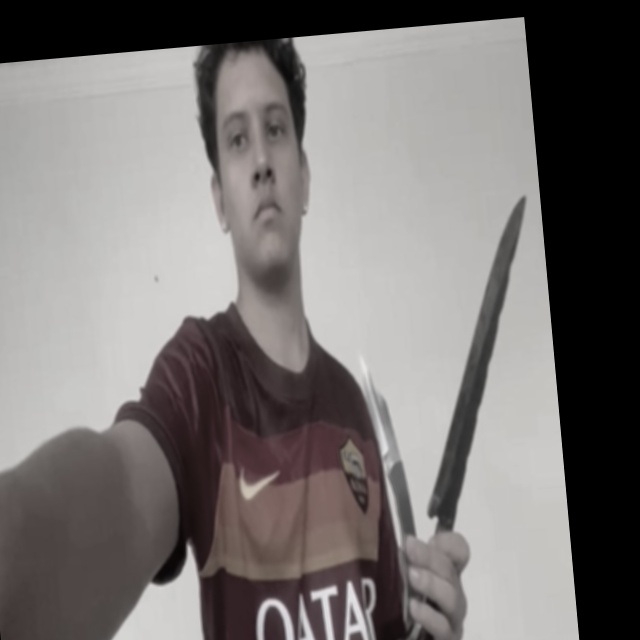Sharp-Object: (403, 191, 554, 521), (358, 348, 402, 474)
